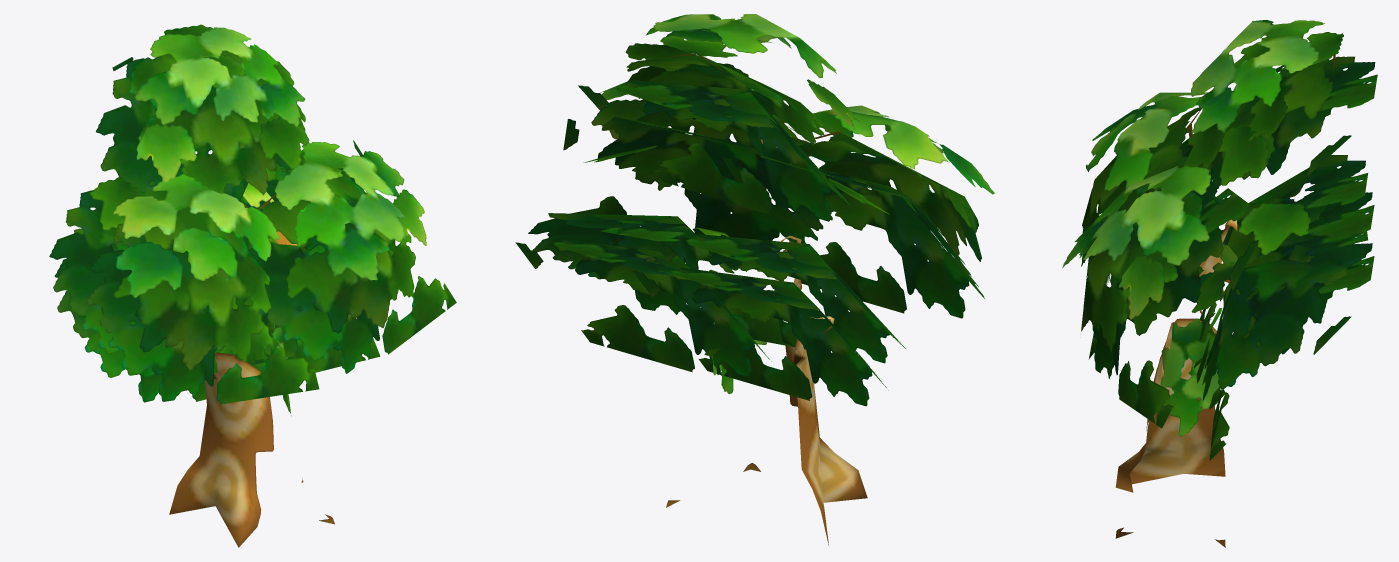
Rendered from fg_treeA_3.dae.
The picture shows the model from 3 angles, left to right: view 1: azimuth 30°, elevation 25°; view 2: azimuth 150°, elevation 25°; view 3: azimuth 270°, elevation 25°; orthographic projection. The views are drawn at different scales.
Visible parts, largest first — view 1: vsn_mesh_0_; view 2: vsn_mesh_0_; view 3: vsn_mesh_0_.
Boxes of the visible parts, left/top/right/bottom form: vsn_mesh_0_: left=49, top=24, right=456, bottom=547; vsn_mesh_0_: left=515, top=14, right=994, bottom=545; vsn_mesh_0_: left=1062, top=20, right=1377, bottom=547.
Bounding box in the file's own units: 67.73 × 77.29 × 48.33.
